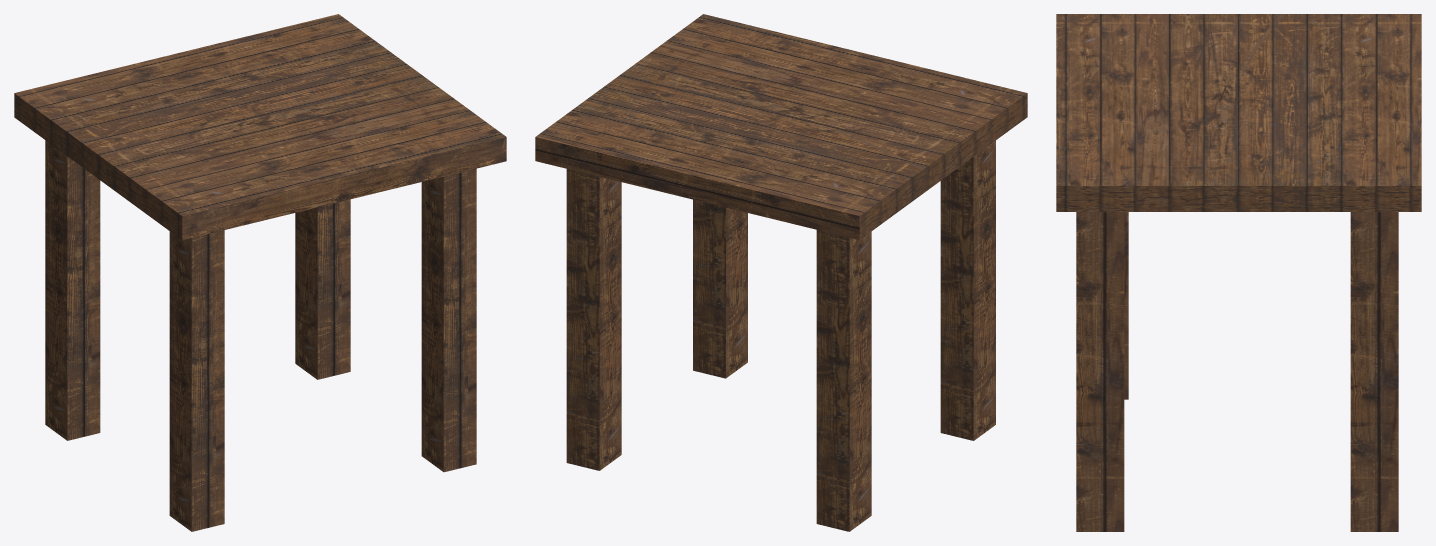
File: Chair.fbx
3 renders of one model, left to right at view 1: azimuth 30°, elevation 25°; view 2: azimuth 150°, elevation 25°; view 3: azimuth 270°, elevation 25°, orthographic. The views are drawn at different scales.
Parts seen in each view (by area): view 1: Plank1.003; view 2: Plank1.003; view 3: Plank1.003.
Boxes of the visible parts, x1,y1,x2,y2 form: Plank1.003: (14, 14, 506, 531); Plank1.003: (535, 14, 1027, 531); Plank1.003: (1056, 14, 1421, 531).
Size of the model in its own units: 112 by 109 by 101.
